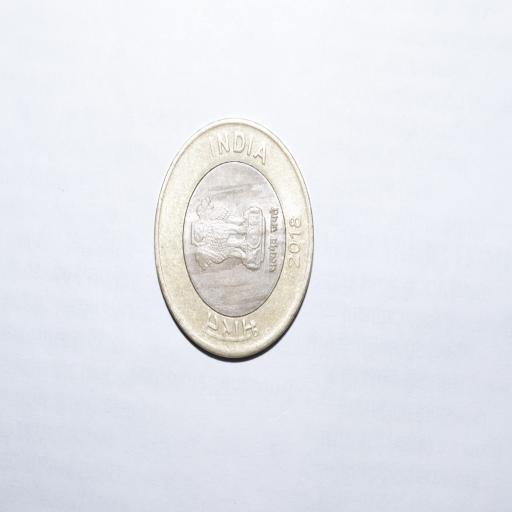rupee10: (151, 116, 315, 360)
